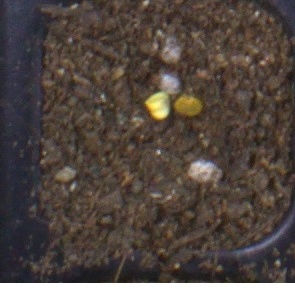chilli seed: (143, 91, 170, 121), (173, 94, 203, 117)
